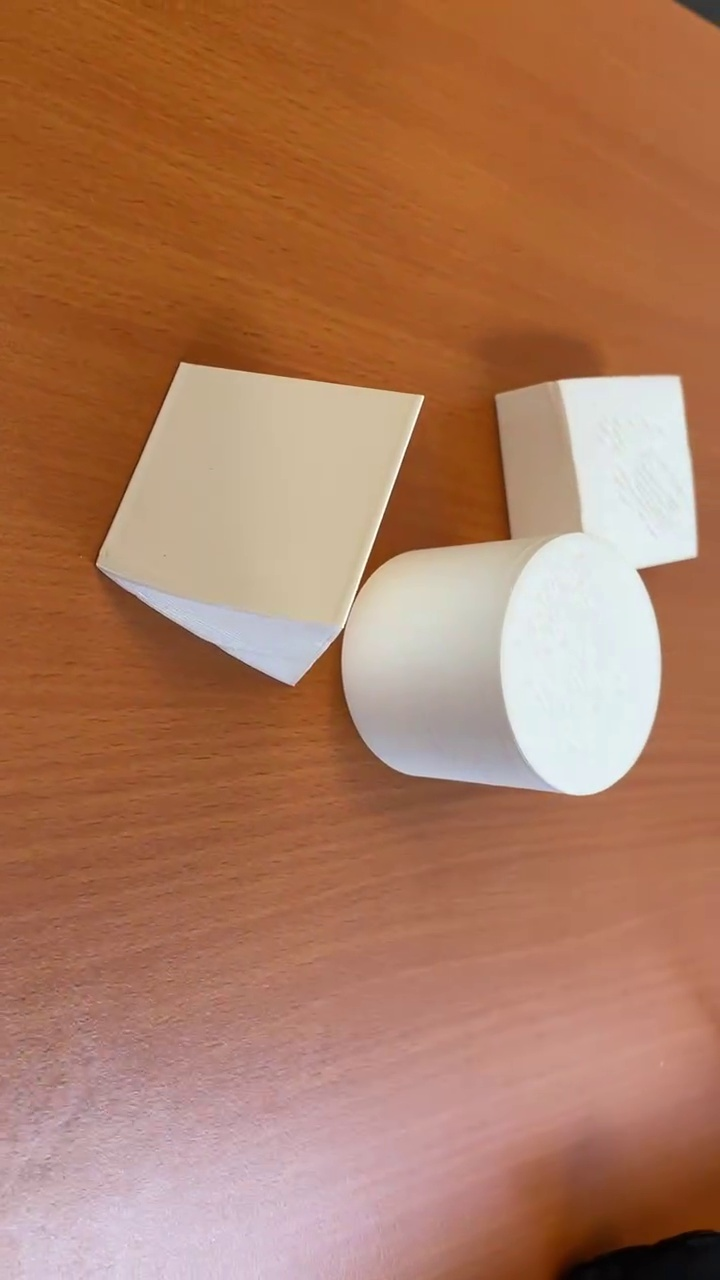Cube_short: (491, 368, 697, 570)
Cylinder: (338, 531, 663, 794)
Triangle: (91, 360, 426, 689)
